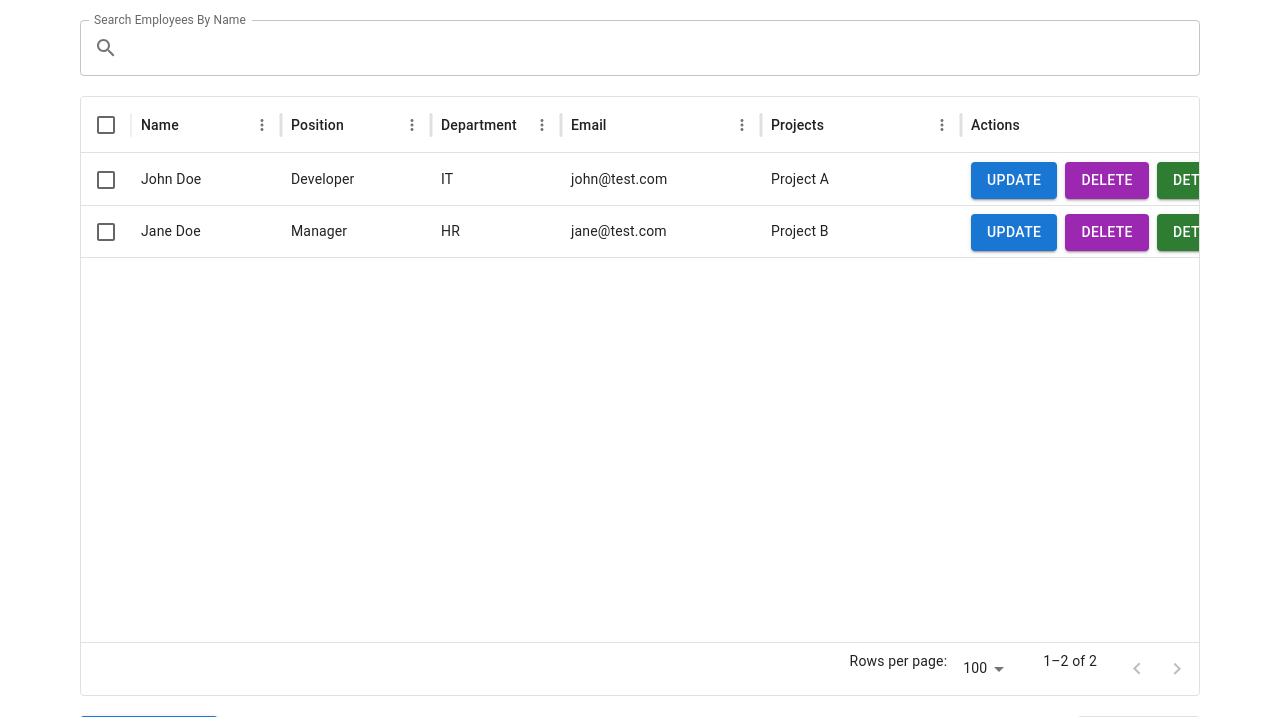
Test: ListEmployeesComponent › handles dialog cancellation
The image size is (1280, 717).
Check: the text "John Doe" is shown, box [141, 171, 201, 187]
Click the button "Delete" in the row of "John Doe" at (1107, 180), box [1065, 162, 1149, 198]
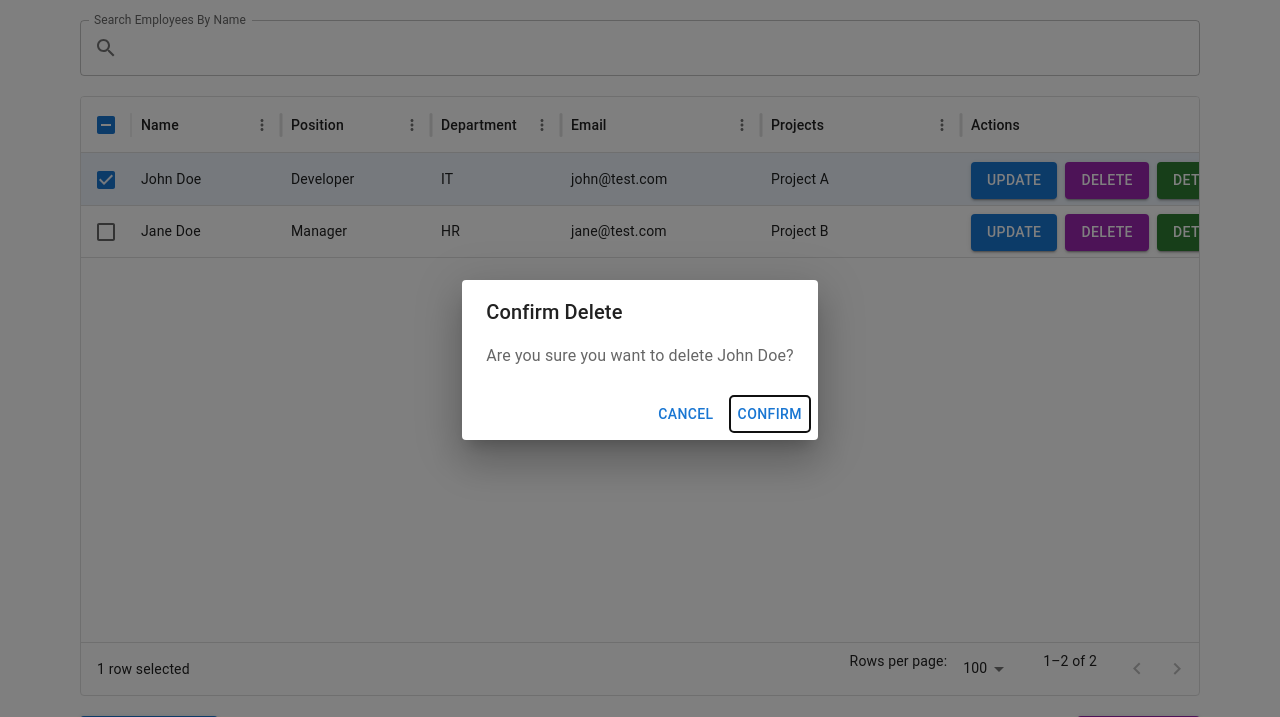
Click the button "Cancel" at (686, 414), box [650, 396, 722, 432]
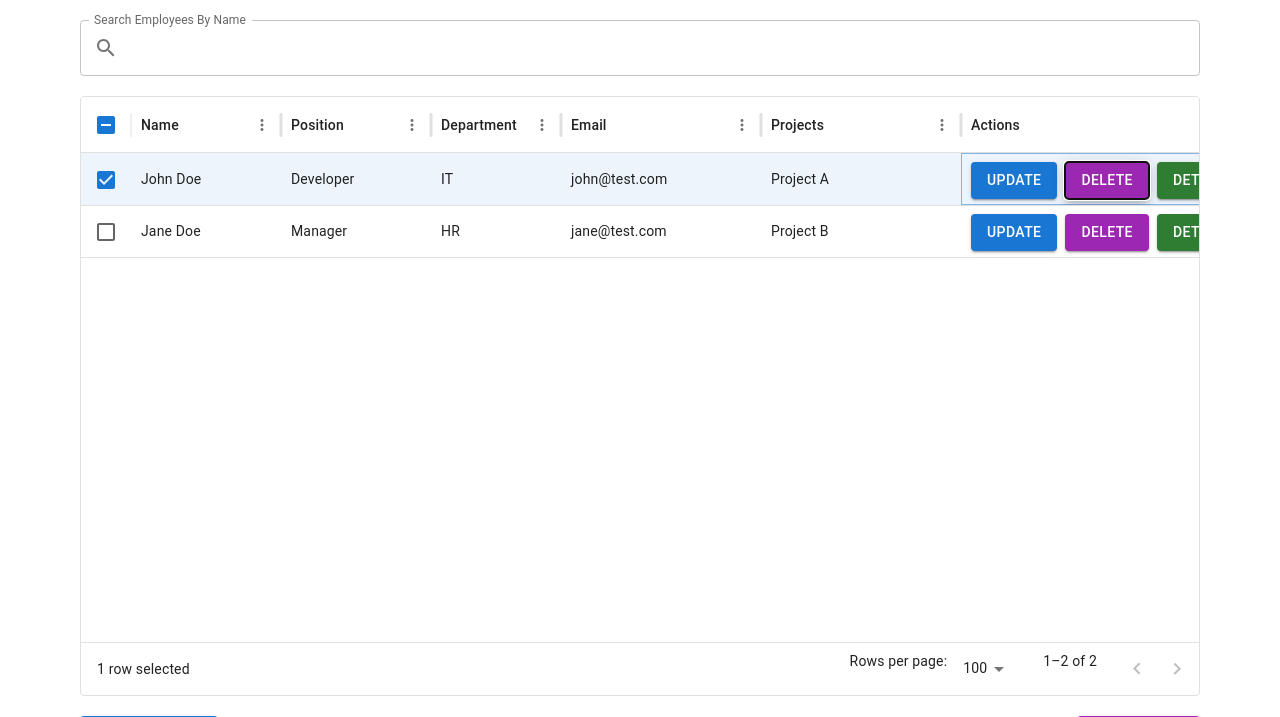
Check: the text "Are you sure you want to delete" is gone
